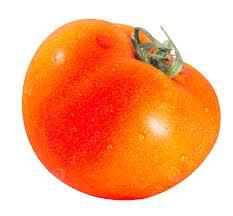Masak: (18, 0, 221, 203)
